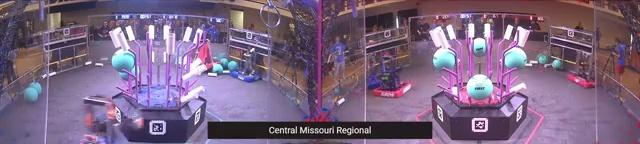reef: (429, 22, 530, 140), (109, 24, 207, 144)
robot: (80, 94, 144, 144), (372, 57, 412, 99), (569, 50, 599, 91), (231, 47, 263, 84), (194, 39, 221, 74), (366, 55, 384, 89)
